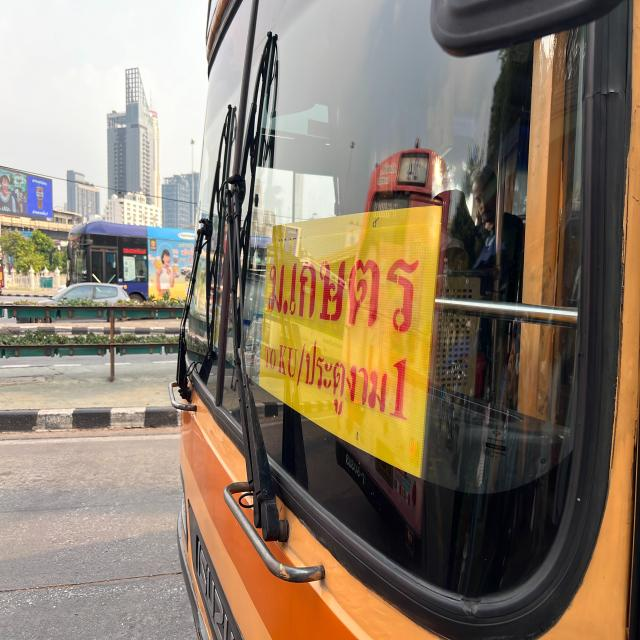BMTA-bus: (168, 0, 640, 640)
Destination-Sign-Extra-Bus-Expressway: (257, 201, 446, 483)
TSB-Bus: (63, 221, 198, 313)
